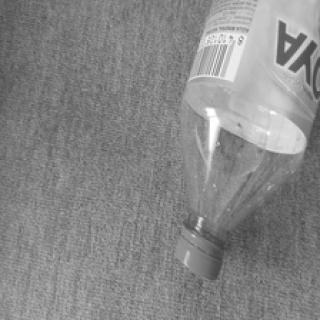plastic_bottles: (156, 0, 320, 285)
